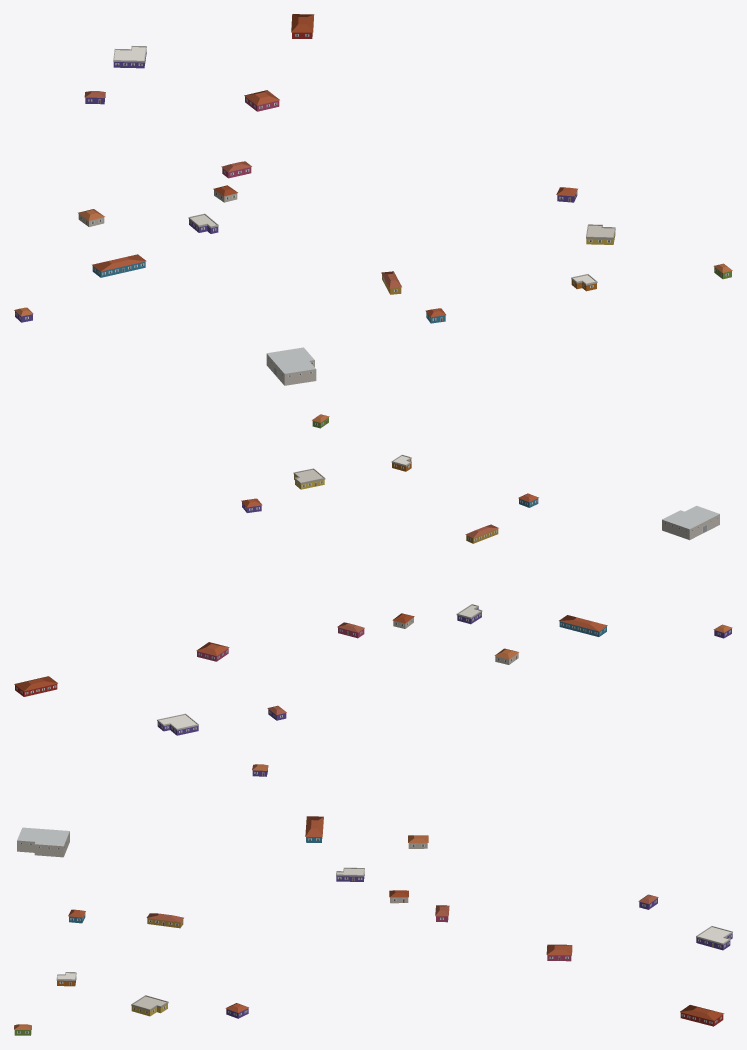
The model's file is msb_palmbeach_m22_m10.glb.
The picture shows the model from 3 angles, top to bottom: view 1: azimuth 30°, elevation 25°; view 2: azimuth 150°, elevation 25°; view 3: azimuth 270°, elevation 25°; orthographic projection. The views are drawn at different scales.
Visible parts, largest first — view 1: msb_palmbeach_m22_m10_lod0; view 2: msb_palmbeach_m22_m10_lod0; view 3: msb_palmbeach_m22_m10_lod0.
Boxes of the visible parts, bbox=[...] form: msb_palmbeach_m22_m10_lod0: bbox=[14, 14, 732, 385]; msb_palmbeach_m22_m10_lod0: bbox=[14, 414, 732, 735]; msb_palmbeach_m22_m10_lod0: bbox=[14, 764, 732, 1035].
Size of what is drawn, in the model's own units: 321 by 11.3 by 370.
Materials: 3 (1 with a texture image).
